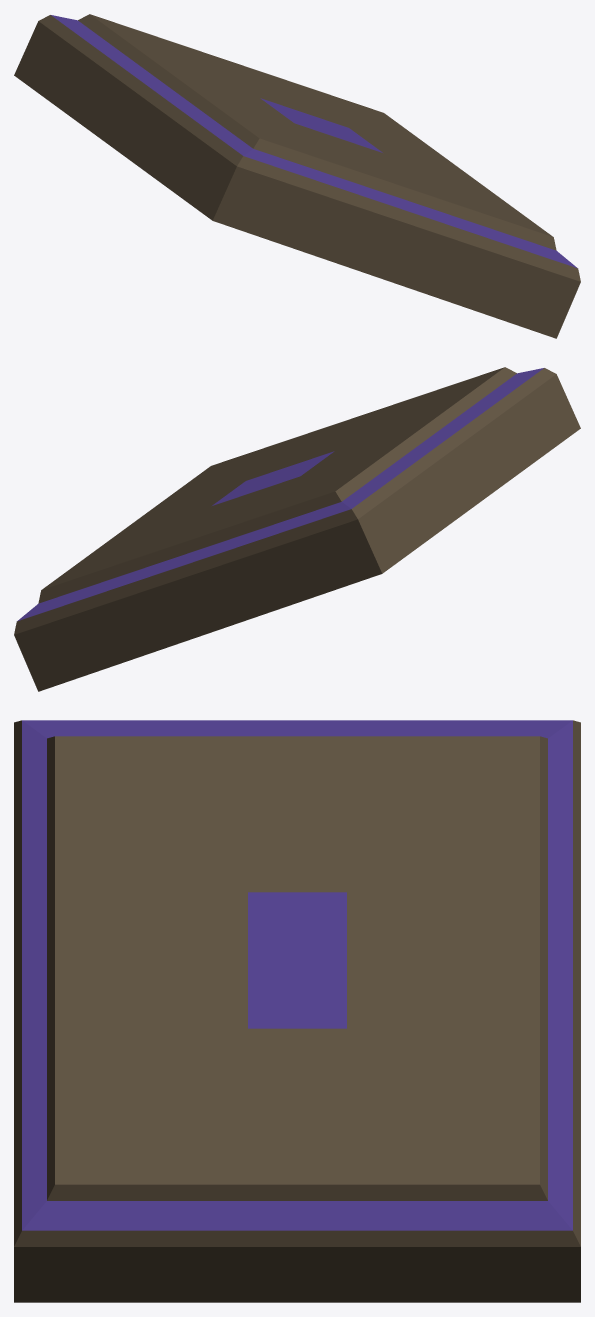
Rendered from ButtonA_Violet.glb.
3 renders of one model, top to bottom at view 1: azimuth 30°, elevation 25°; view 2: azimuth 150°, elevation 25°; view 3: azimuth 270°, elevation 25°, orthographic. The views are drawn at different scales.
Parts seen in each view (by area): view 1: ButtonA; view 2: ButtonA; view 3: ButtonA.
Part boxes in pixels (x1,y1,x2,y2): ButtonA: (14, 14, 580, 338); ButtonA: (14, 367, 580, 691); ButtonA: (14, 720, 580, 1302).
Size of what is drawn, in the model's own units: 0.1875 by 0.1259 by 0.1751.
2 materials, 2 textured.
